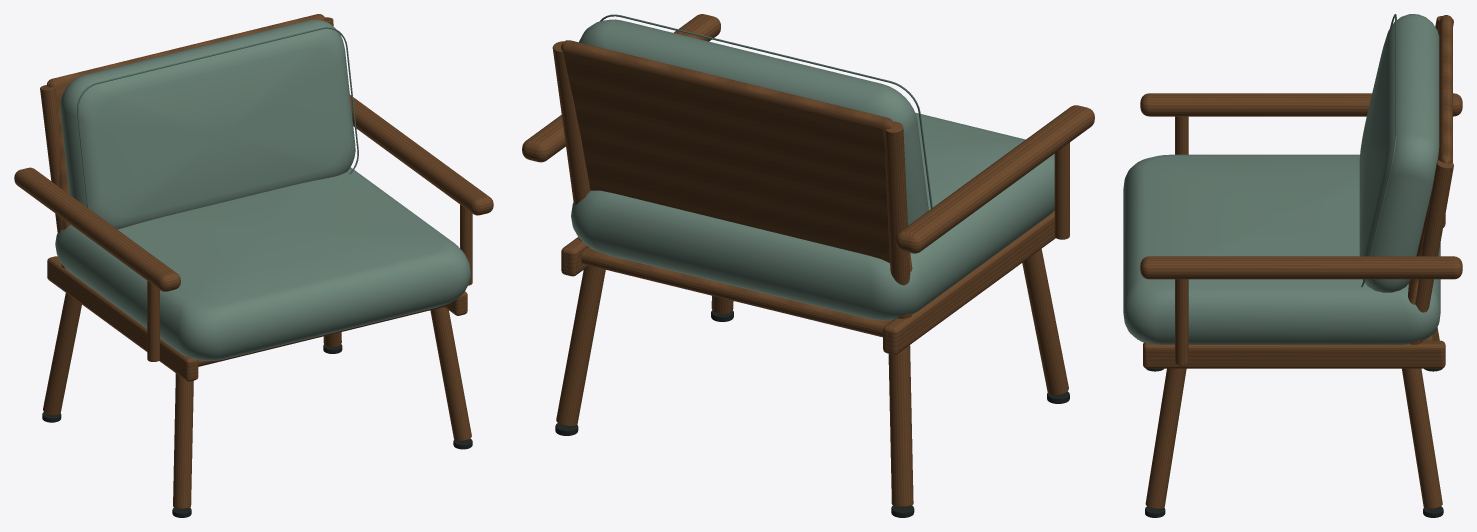
The model's file is chair.glb.
The picture shows the model from 3 angles, left to right: view 1: azimuth 30°, elevation 25°; view 2: azimuth 150°, elevation 25°; view 3: azimuth 270°, elevation 25°; orthographic projection. The views are drawn at different scales.
Parts seen in each view (by area): view 1: chair / Woven sage upholstery, chair / Oiled walnut, chair / Upholstery piping, chair / Soft black feet; view 2: chair / Oiled walnut, chair / Woven sage upholstery, chair / Upholstery piping, chair / Soft black feet; view 3: chair / Woven sage upholstery, chair / Oiled walnut, chair / Upholstery piping, chair / Soft black feet.
Part boxes in pixels (<box>): chair / Woven sage upholstery: <box>55,19,470,360</box>; chair / Oiled walnut: <box>14,14,493,508</box>; chair / Upholstery piping: <box>77,27,358,208</box>; chair / Soft black feet: <box>42,344,472,517</box>; chair / Oiled walnut: <box>522,14,1094,506</box>; chair / Woven sage upholstery: <box>571,19,1054,320</box>; chair / Upholstery piping: <box>600,14,932,208</box>; chair / Soft black feet: <box>555,310,1069,517</box>; chair / Woven sage upholstery: <box>1123,14,1440,344</box>; chair / Oiled walnut: <box>1140,15,1462,508</box>; chair / Upholstery piping: <box>1361,14,1396,287</box>; chair / Soft black feet: <box>1145,368,1443,517</box>.
Bounding box in the file's own units: 0.845 × 0.826 × 0.695.
Materials: 4 (1 with a texture image).
